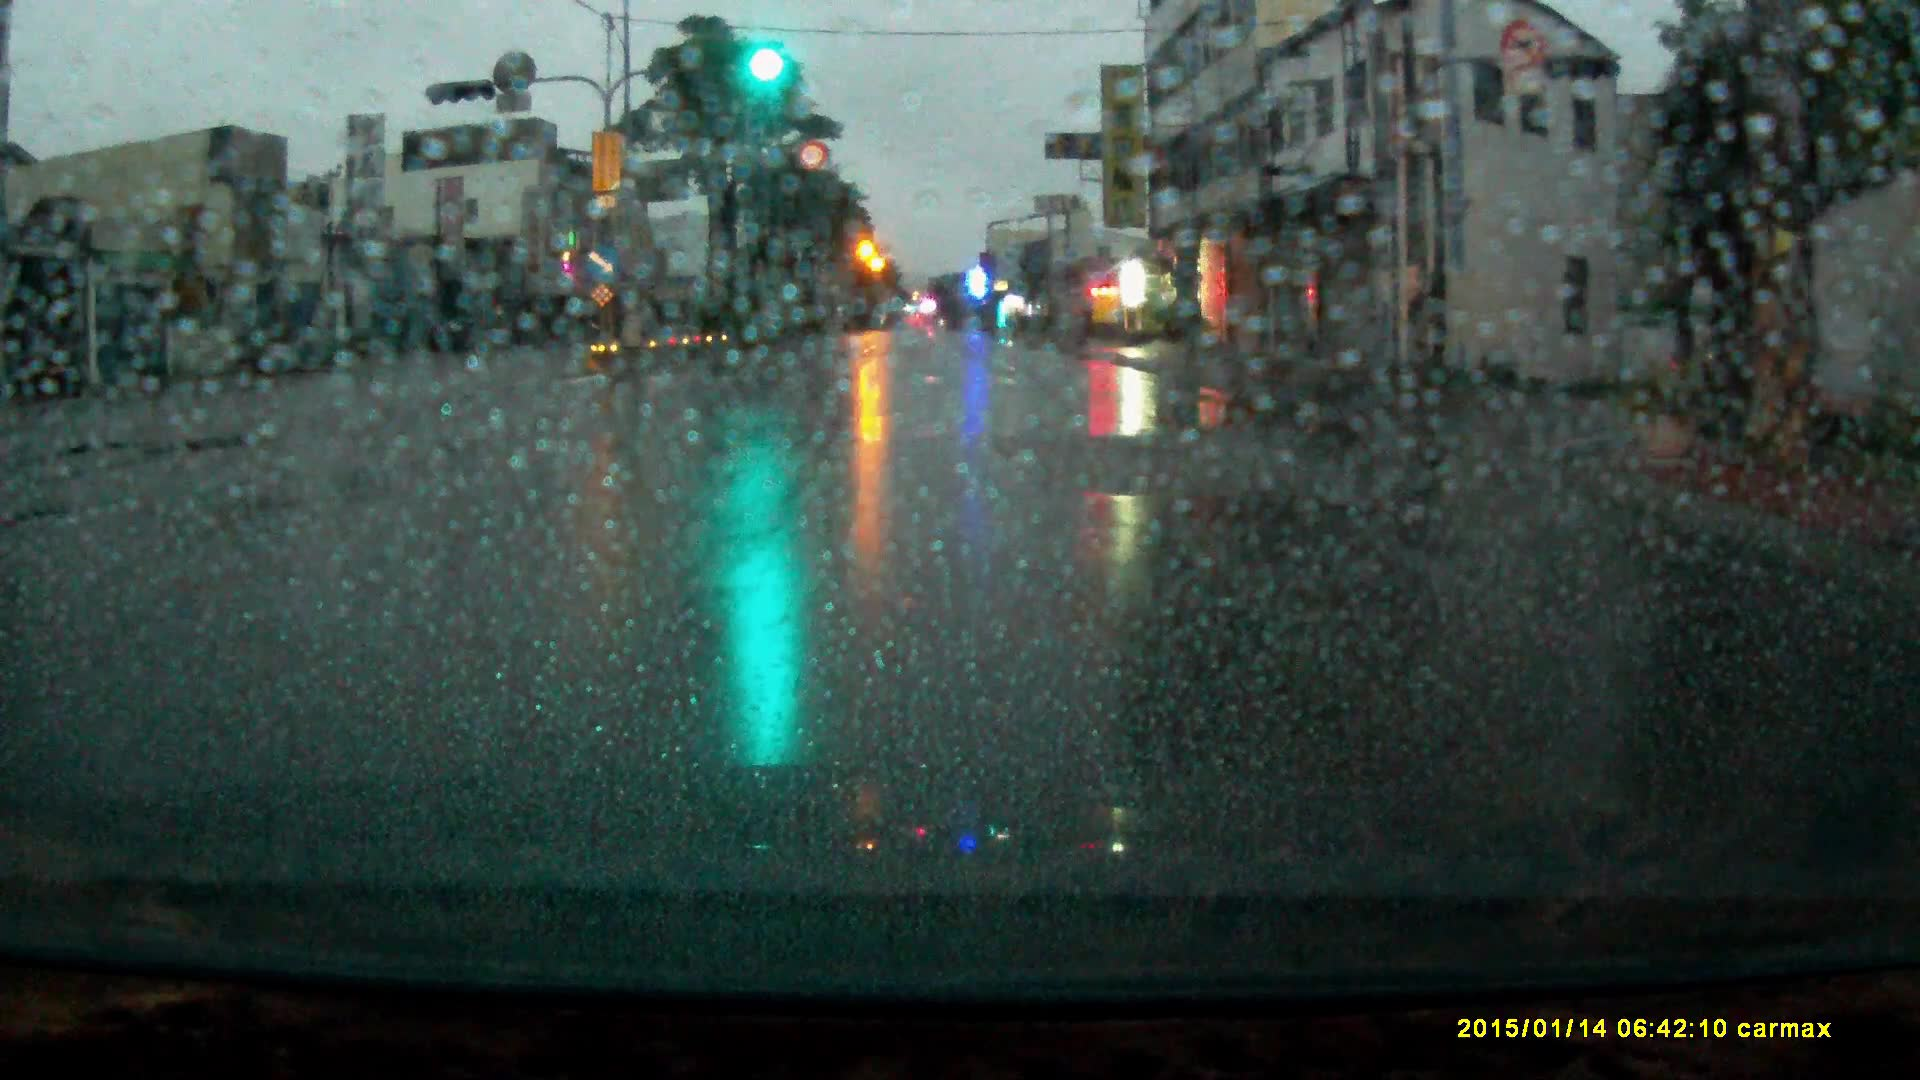rider: (1665, 300, 1727, 412)
